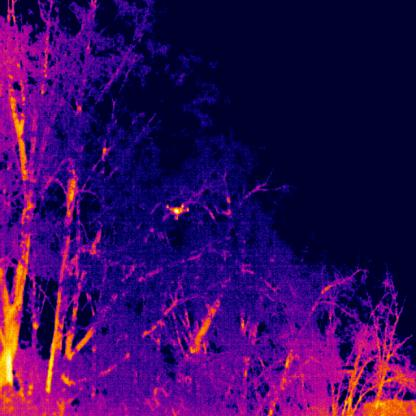drone: (166, 203, 188, 219)
